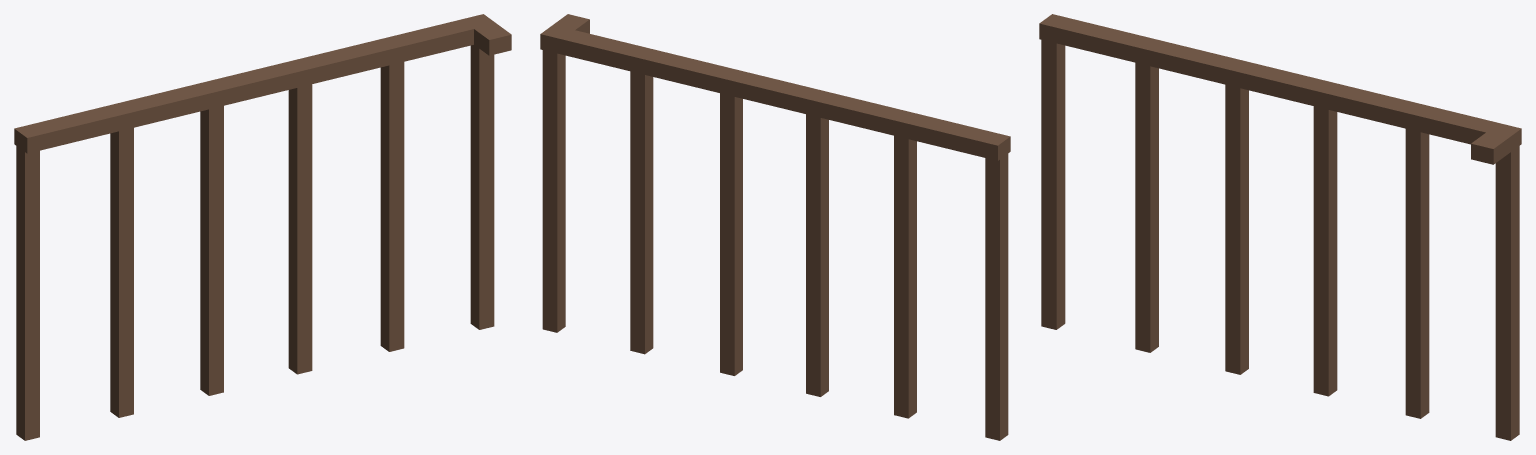
The model's file is SPW_Medieval_Props_Steps Fence_01.glb.
3 renders of one model, left to right at view 1: azimuth 30°, elevation 25°; view 2: azimuth 150°, elevation 25°; view 3: azimuth 330°, elevation 25°, orthographic. The views are drawn at different scales.
Visible parts, largest first — view 1: SPW_Medieval_Props_Steps Fence_01; view 2: SPW_Medieval_Props_Steps Fence_01; view 3: SPW_Medieval_Props_Steps Fence_01.
Part boxes in pixels (x1=…): SPW_Medieval_Props_Steps Fence_01: x1=14, y1=14, x2=511, y2=440; SPW_Medieval_Props_Steps Fence_01: x1=540, y1=14, x2=1010, y2=440; SPW_Medieval_Props_Steps Fence_01: x1=1039, y1=14, x2=1521, y2=440.
Bounding box in the file's own units: 1.25 × 0.775 × 0.13.
Materials: 1 (1 with a texture image).
